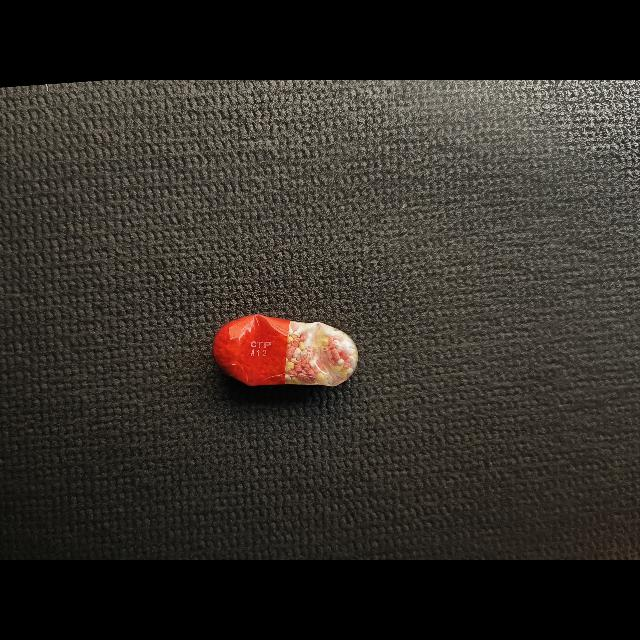Defective Capsule: (212, 314, 358, 387)
